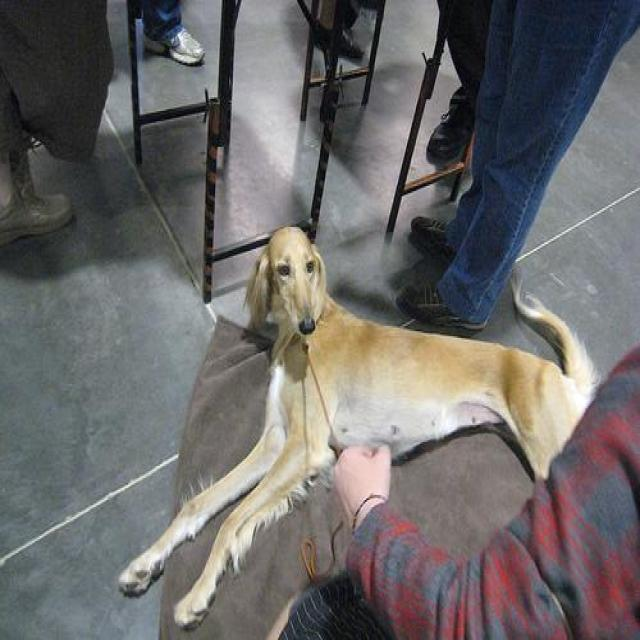saluki: (119, 223, 603, 635)
